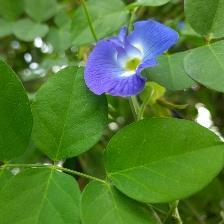shankupushpam: (80, 16, 182, 100)
